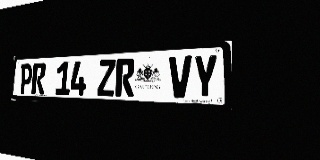1: (55, 61, 71, 95)
4: (70, 61, 87, 96)
P: (19, 63, 33, 94)
R: (115, 58, 135, 97), (31, 63, 46, 95)
V: (168, 55, 192, 98)
Y: (192, 54, 218, 99)
Z: (97, 59, 116, 96)
